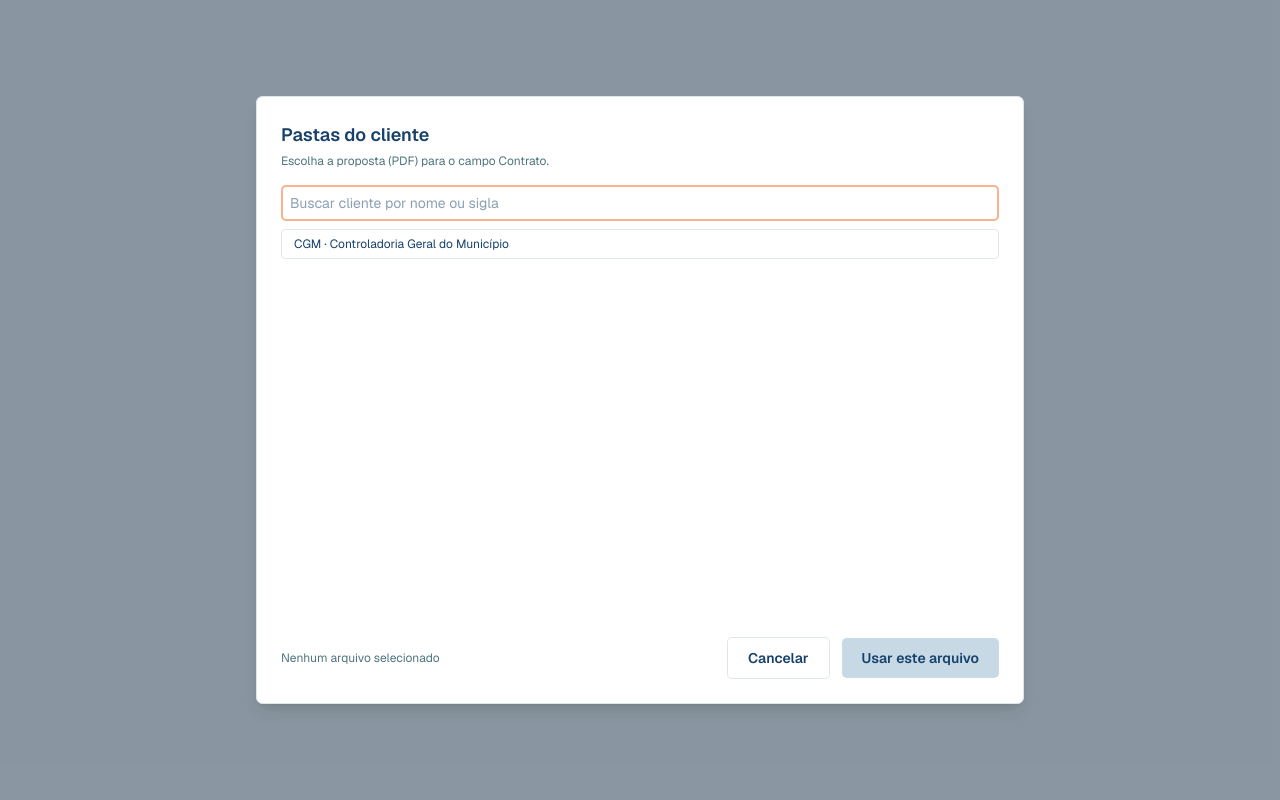
it: sem cliente: pede o cliente primeiro
This screenshot has width=1280, height=800.
Click the button "CGM · Controladoria Geral do Município" at (312, 244), box 281,229 -> 999,259
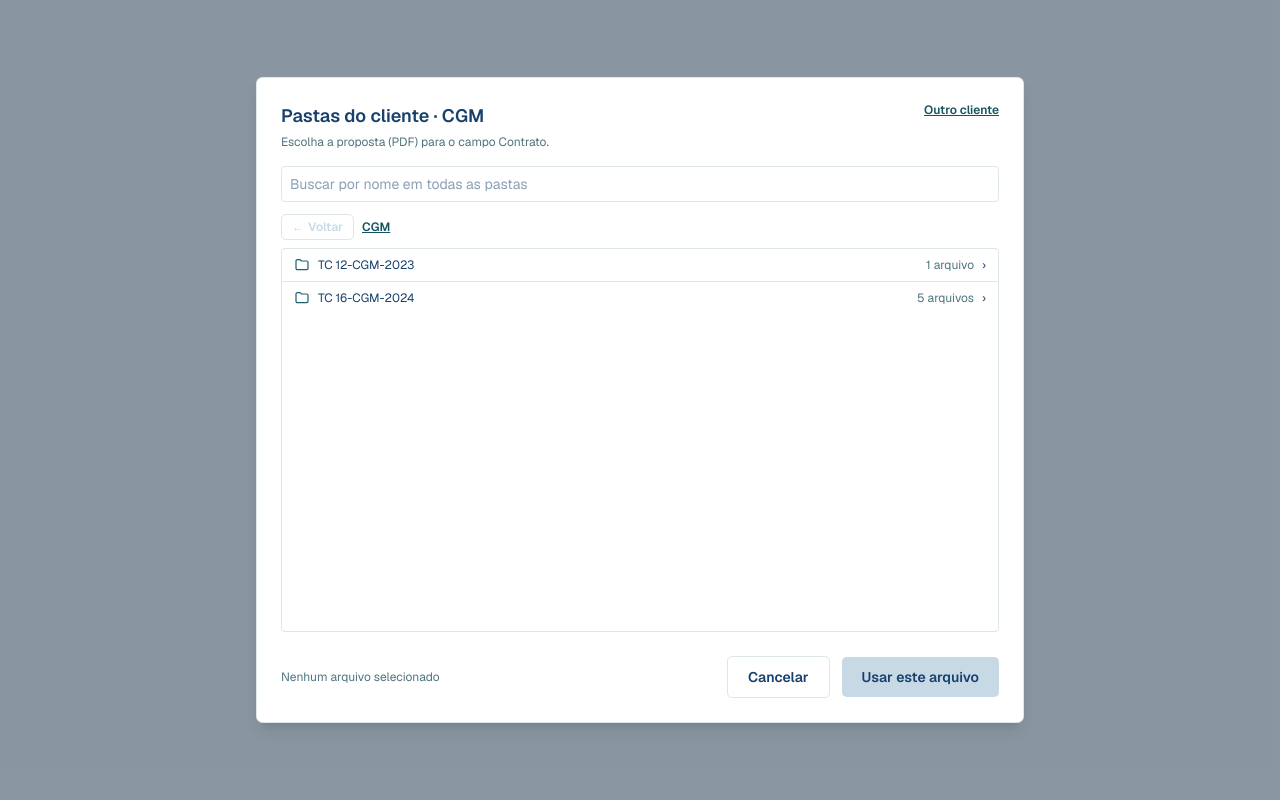
expect the button "TC 16-CGM-2024 5 arquivos ›" is shown: met, box 282,282 -> 998,314
